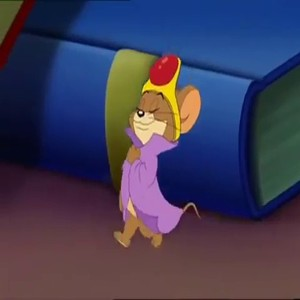Jerry: (113, 55, 202, 246)
